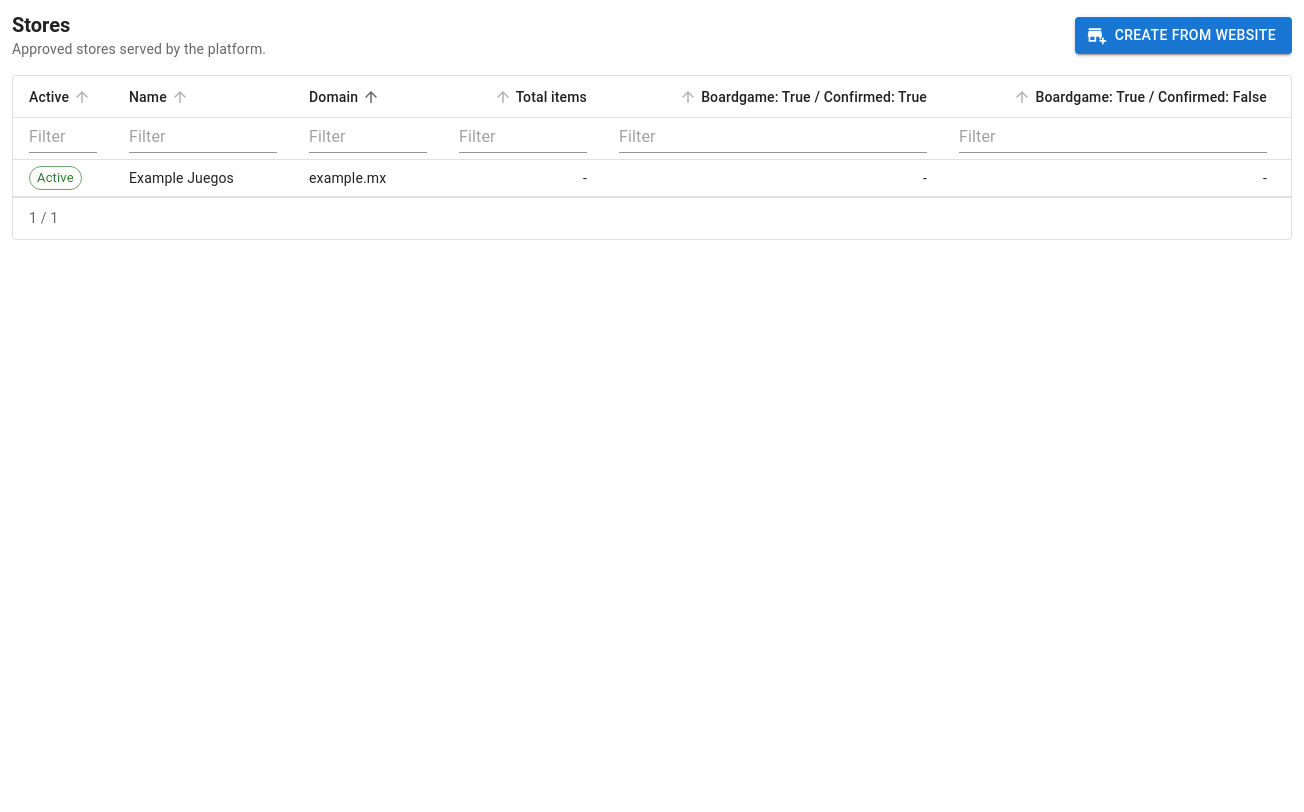
Test case: StoresPage › shows a statistics error without replacing a failed request with zero counts
Double-click the text "Example Juegos" at (203, 178), box [113,160,293,197]
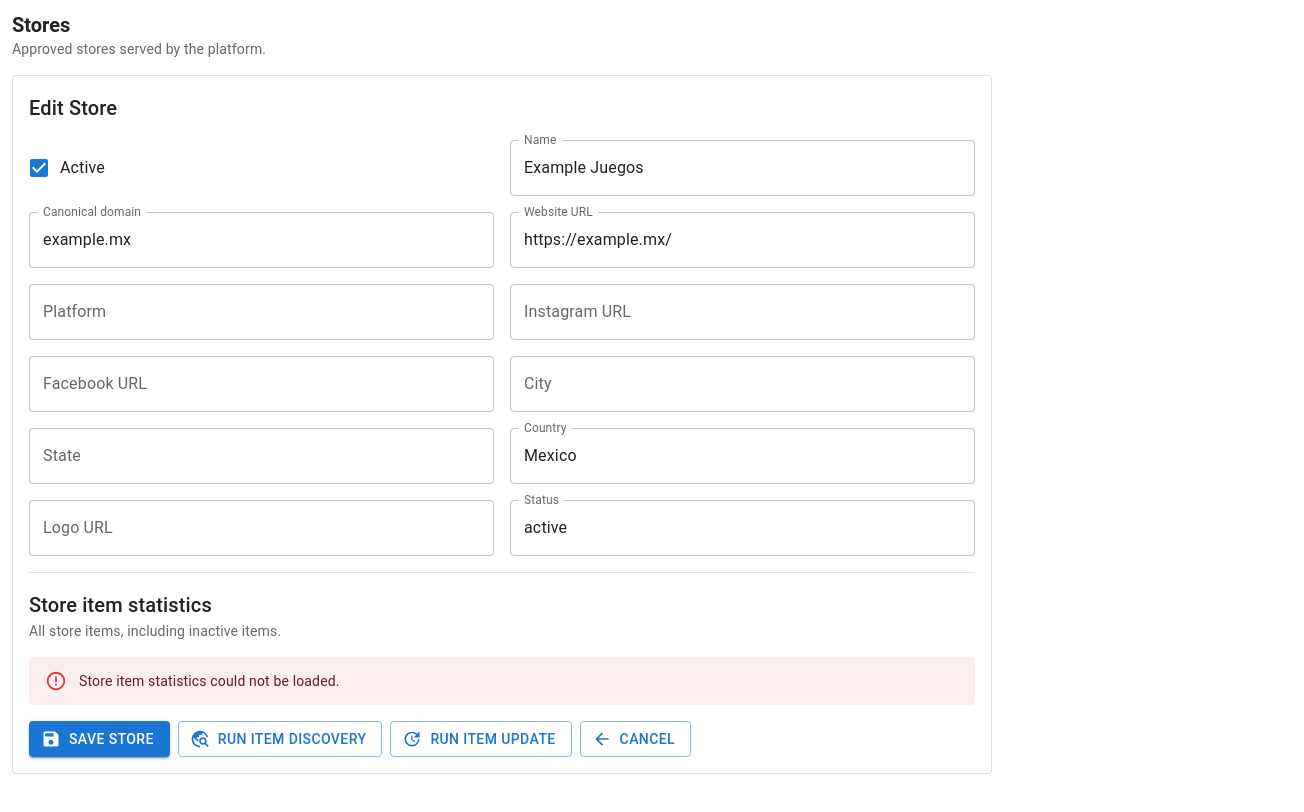
Check: the message reads "Store item statistics could not be loaded.", box [79,673,340,689]
Check: the table is gone
Check: the button "Save Store" is enabled, box [29,721,170,757]
